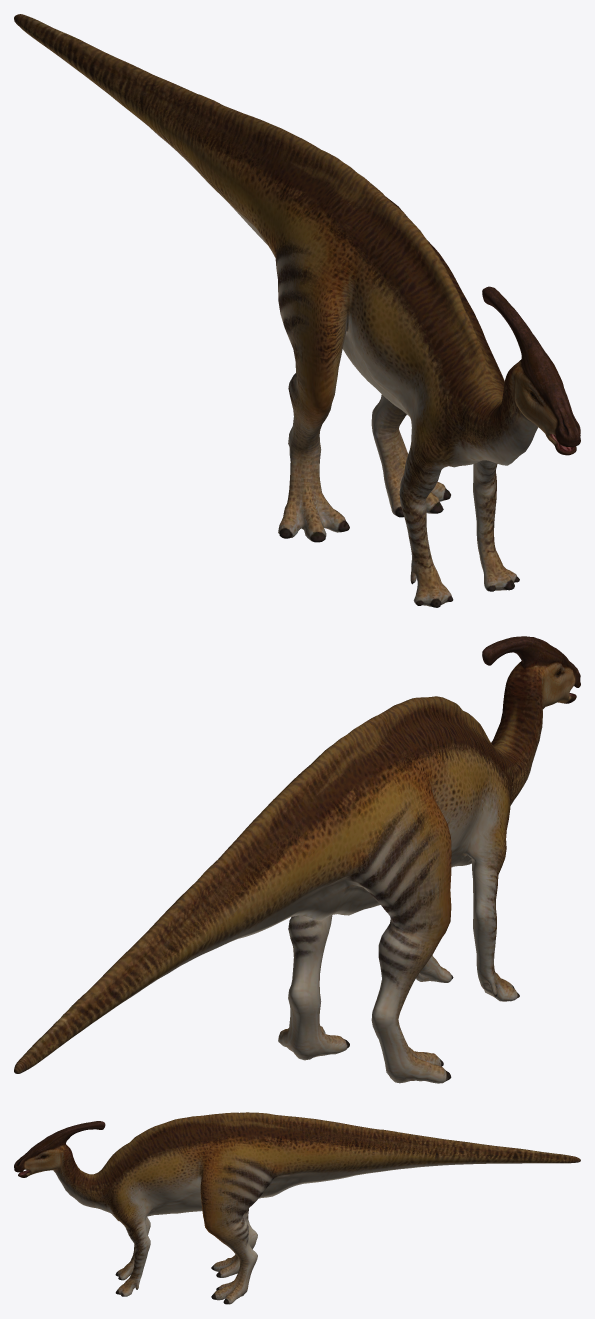
Rendered from parasaurolophus.gltf.
3 views of the same model, one above another, from view 1: azimuth 30°, elevation 25°; view 2: azimuth 150°, elevation 25°; view 3: azimuth 270°, elevation 25° (orthographic). The views are drawn at different scales.
Visible parts, largest first — view 1: Object_2; view 2: Object_2; view 3: Object_2.
Boxes of the visible parts, x1,y1,x2,y2 form: Object_2: [14, 14, 580, 607]; Object_2: [14, 636, 580, 1083]; Object_2: [14, 1112, 580, 1304].
Bounding box in the file's own units: 20.72 × 39.79 × 118.
Materials: 1 (1 with a texture image).
